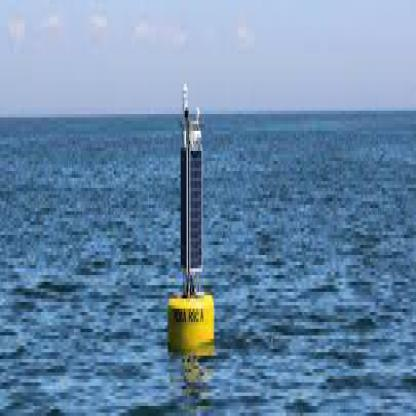buoy: (162, 67, 220, 386)
